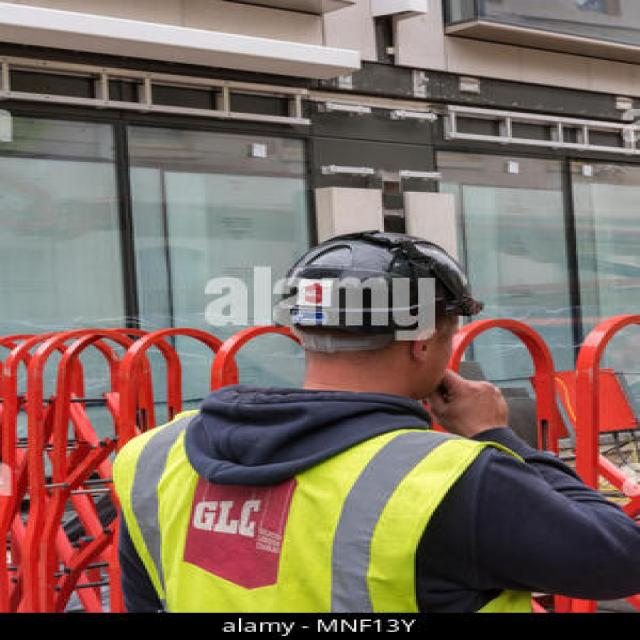Reflective-Jacket: (107, 403, 514, 613)
Safety-Helmet: (276, 223, 487, 338)
